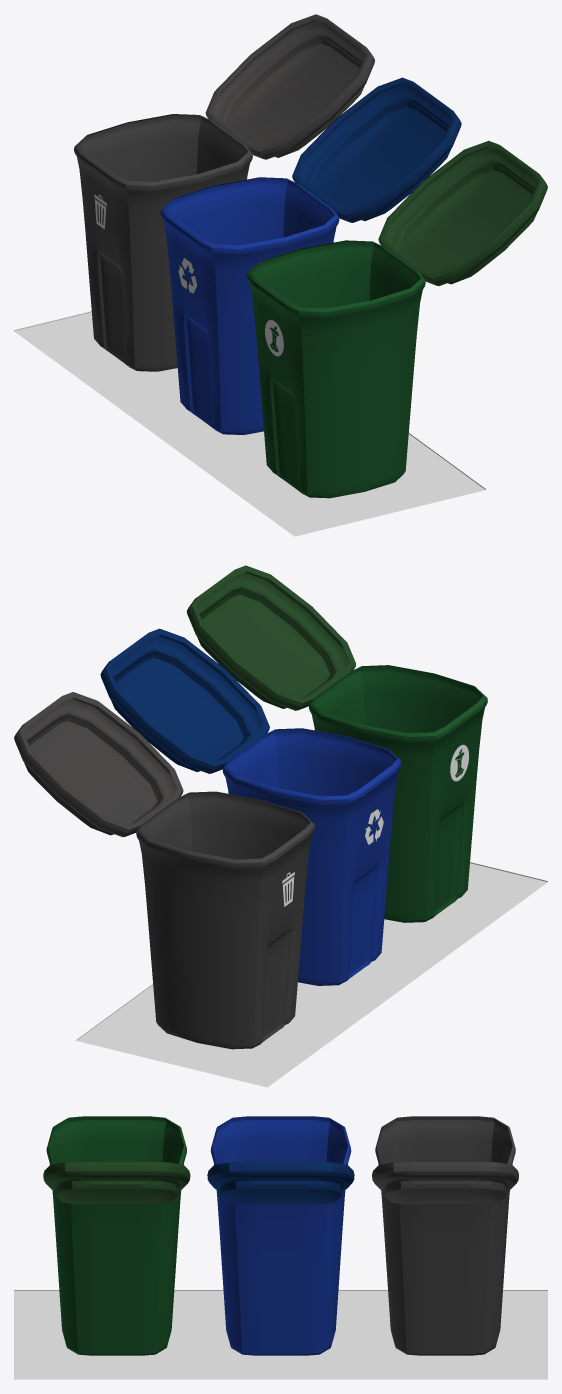
Rendered from garbagebins.glb.
3 renders of one model, top to bottom at view 1: azimuth 30°, elevation 25°; view 2: azimuth 150°, elevation 25°; view 3: azimuth 270°, elevation 25°, orthographic. The views are drawn at different scales.
Visible parts, largest first — view 1: Cube.002, Cube.004, Cube, Plane, Cube.003, Cube.005, Cube.001; view 2: Cube.004, Cube, Cube.002, Plane, Cube.005, Cube.003, Cube.001; view 3: Plane, Cube.002, Cube, Cube.004, Cube.001, Cube.003, Cube.005.
Boxes of the visible parts, x1,y1,x2,y2 form: Cube.002: (246,240,425,498); Cube.004: (74,114,252,371); Cube: (160,177,339,434); Plane: (14,311,485,536); Cube.003: (378,140,547,285); Cube.005: (205,14,374,159); Cube.001: (292,77,461,222); Cube.004: (136,791,314,1049); Cube: (222,728,401,985); Cube.002: (309,665,487,922); Plane: (76,862,547,1087); Cube.005: (14,692,183,837); Cube.003: (186,565,355,710); Cube.001: (100,628,269,773); Plane: (14,1290,547,1379); Cube.002: (46,1116,186,1355); Cube: (210,1116,351,1355); Cube.004: (375,1116,515,1355); Cube.001: (207,1161,354,1204); Cube.003: (43,1161,190,1204); Cube.005: (372,1161,518,1204).
Bounding box in the file's own units: 5.56 × 5.1 × 9.56.
Materials: 9 (3 with a texture image).
